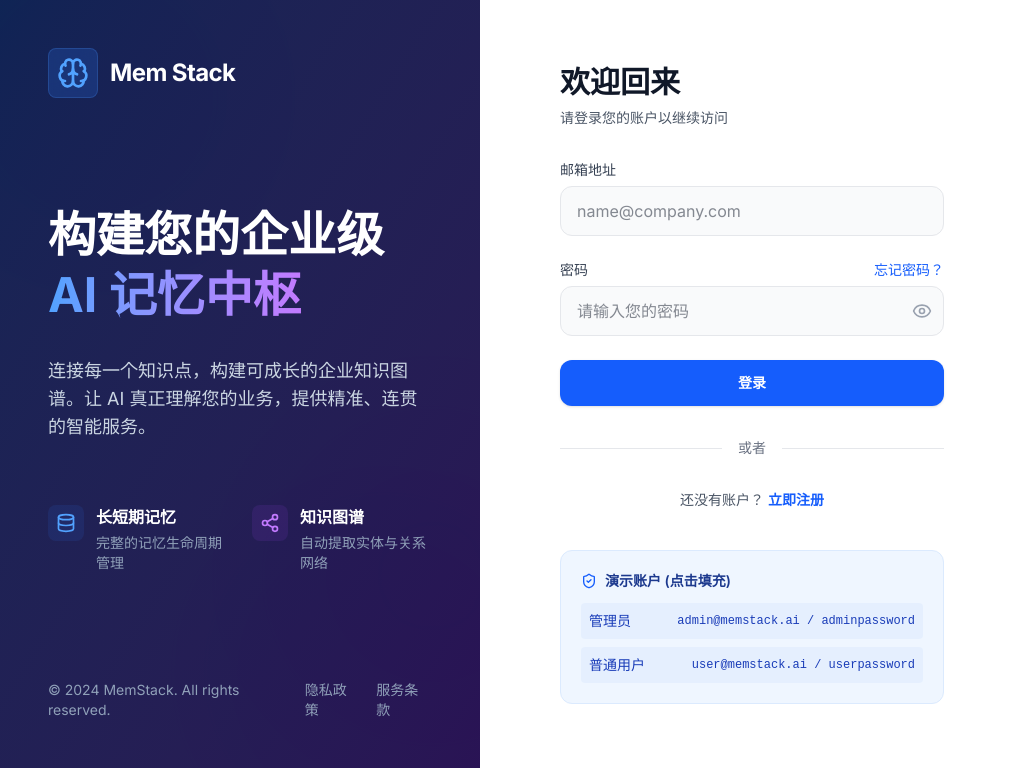
Test case: Login › auto fills demo credentials
# Click the parent container (which has the click handler)
Click the button "管理员 admin@memstack.ai / adminpassword". click: (752, 621)
box: [581,603,923,639]
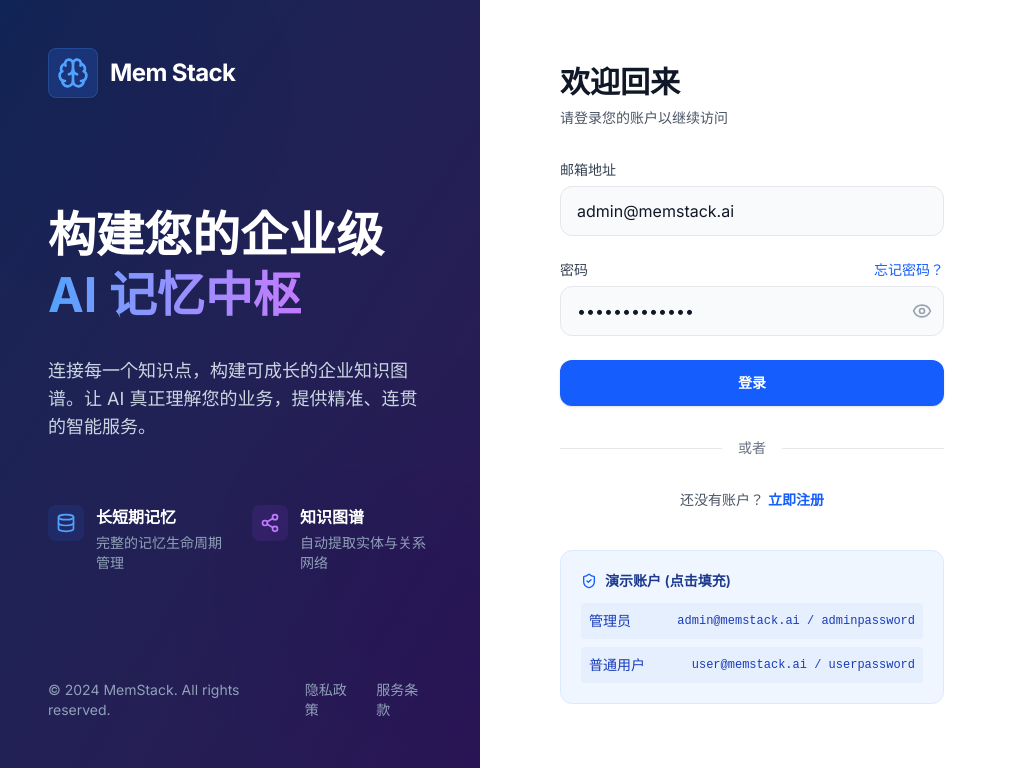
Result: the field labelled "邮箱地址" holds "admin@memstack.ai" at [560,186,944,236]
Result: the password field labelled "密码" holds "adminpassword" at [560,286,944,336]
# Test user credential
Click the button "普通用户 user@memstack.ai / userpassword". click: (752, 665)
box: [581,647,923,683]
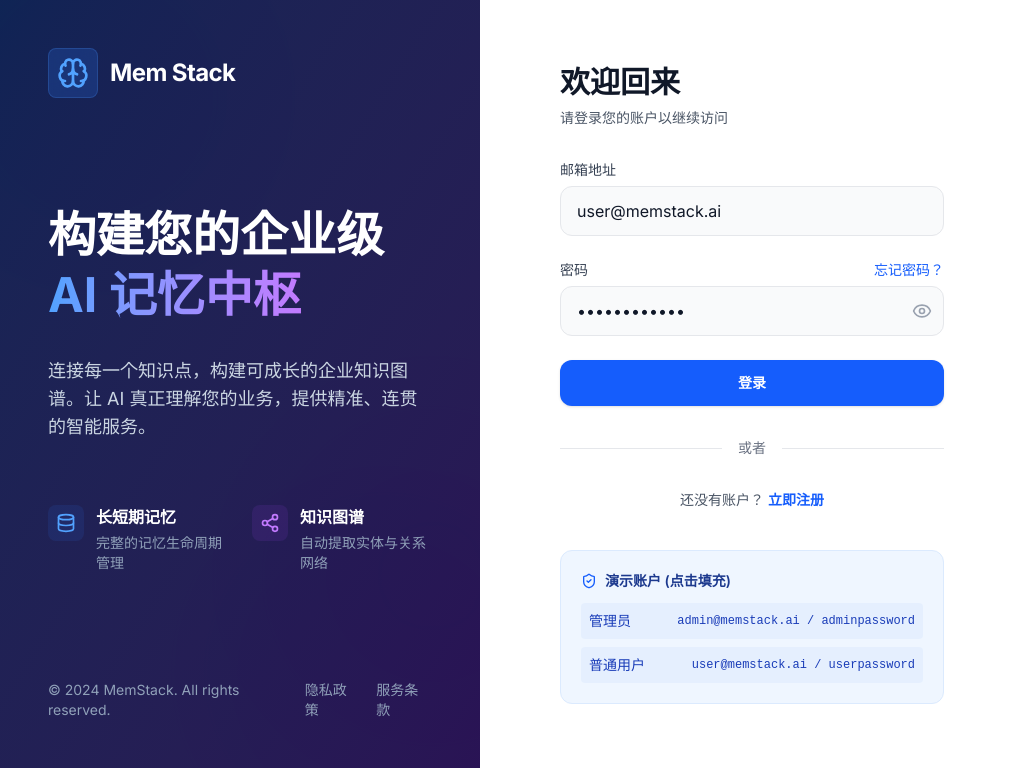
Expected: the password field labelled "密码" holds "userpassword", [560,286,944,336]
Result: the field labelled "邮箱地址" holds "user@memstack.ai" at [560,186,944,236]
